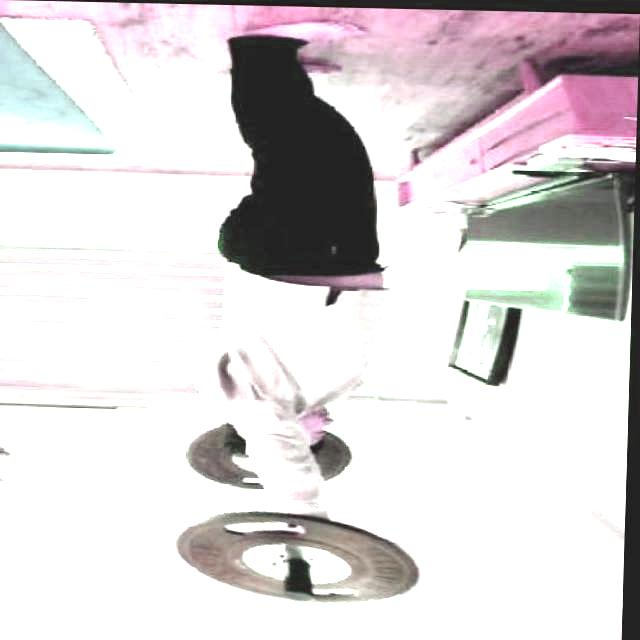barbell: (153, 492, 447, 630)
